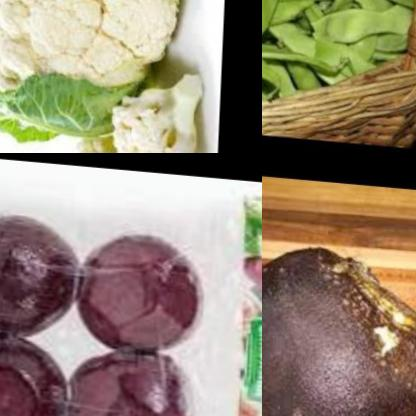beet: (77, 219, 207, 357), (60, 336, 202, 416), (0, 205, 80, 344), (0, 323, 79, 416)
cayliflower: (0, 0, 189, 127), (107, 57, 207, 153), (70, 118, 184, 153)
fasol: (262, 0, 416, 98)
redka: (262, 236, 416, 416)
